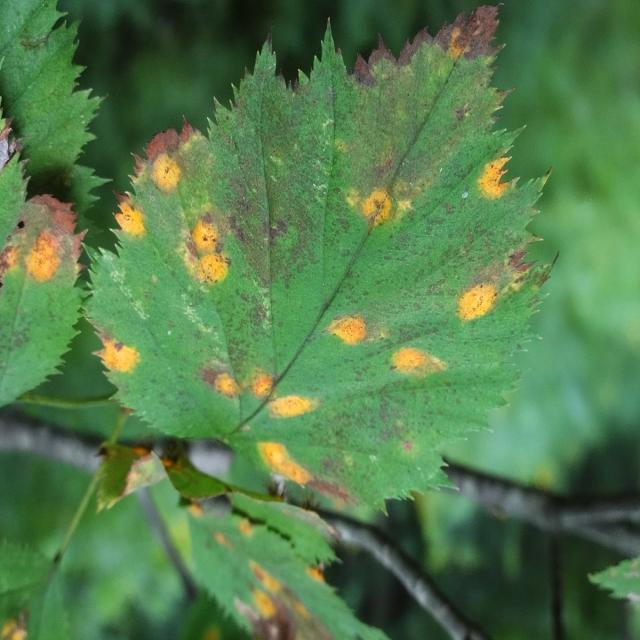Gymnosporangium_Rusts: (1, 0, 572, 640)
